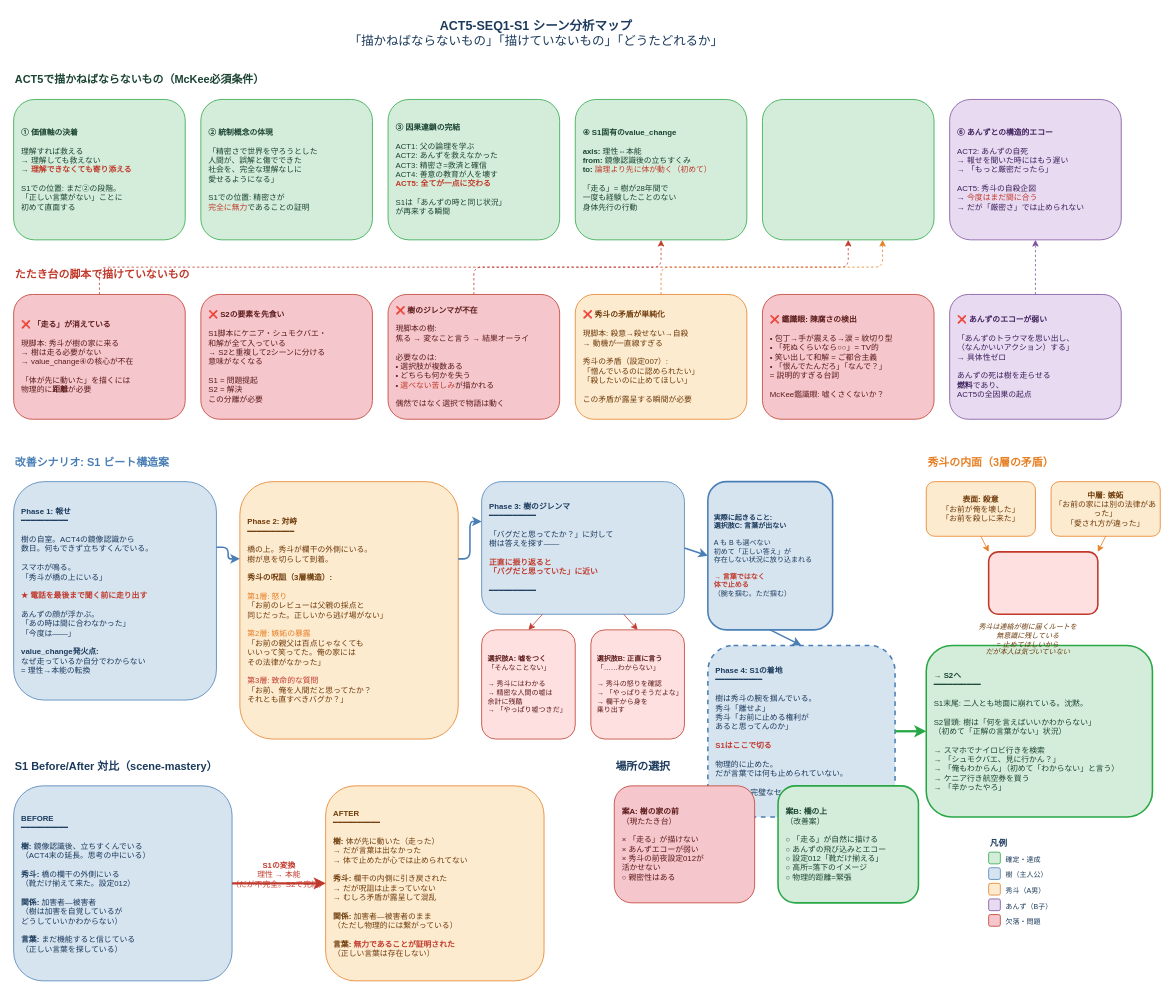
Image size: 1174x994. Some labels were removed from this diagram. The shapes that lost their labels are listed below. From the top down, each one's box as (x1, y1, x2, y2) in pixels, then its label:
(762, 99, 934, 240): ⑤ 期待と結果の最大ギャップ 読者の期待: 樹なら論理的に 正しいことを言って救う 結果: 何も言えない 精密な言語の持ち主が 言葉を失う = 最大の反転
(987, 551, 1098, 615): 深層: 承認欲求 「この人に認められれば 父を超えられる」 = 止めてほしい
